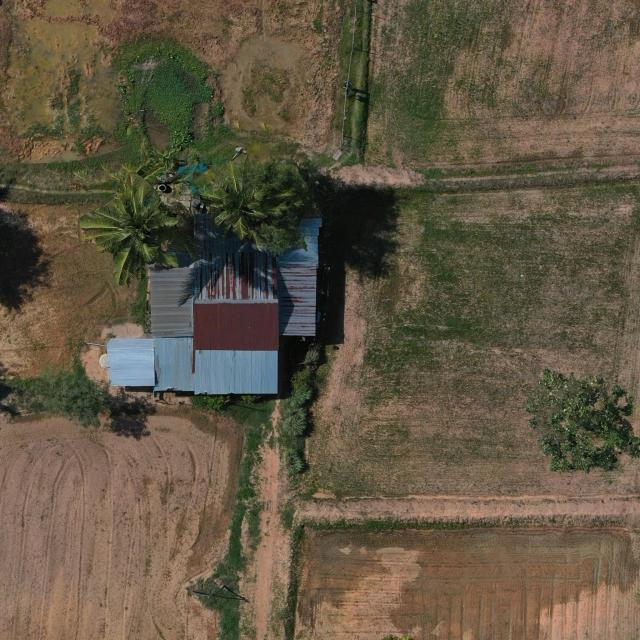Tree: (521, 367, 640, 476), (77, 176, 180, 287), (197, 158, 296, 238), (12, 354, 108, 430), (149, 146, 180, 173)
